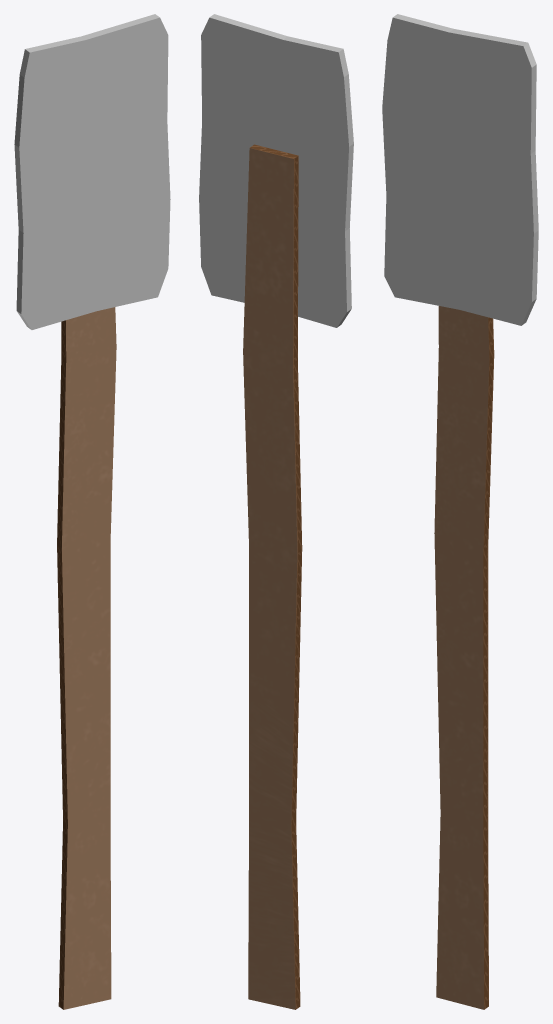
Rendered from letreroRectangularY.fbx.
The picture shows the model from 3 angles, left to right: view 1: azimuth 30°, elevation 25°; view 2: azimuth 150°, elevation 25°; view 3: azimuth 330°, elevation 25°; orthographic projection.
Parts seen in each view (by area): view 1: RectanguloX, Palo; view 2: Palo, RectanguloX; view 3: RectanguloX, Palo.
Part boxes in pixels (x1=…): RectanguloX: x1=14, y1=14, x2=170, y2=329; Palo: x1=57, y1=307, x2=116, y2=1009; Palo: x1=243, y1=144, x2=302, y2=1009; RectanguloX: x1=199, y1=14, x2=353, y2=327; RectanguloX: x1=382, y1=14, x2=538, y2=325; Palo: x1=434, y1=306, x2=494, y2=1009.
Bounding box in the file's own units: 7.1 × 43.76 × 0.7859.
